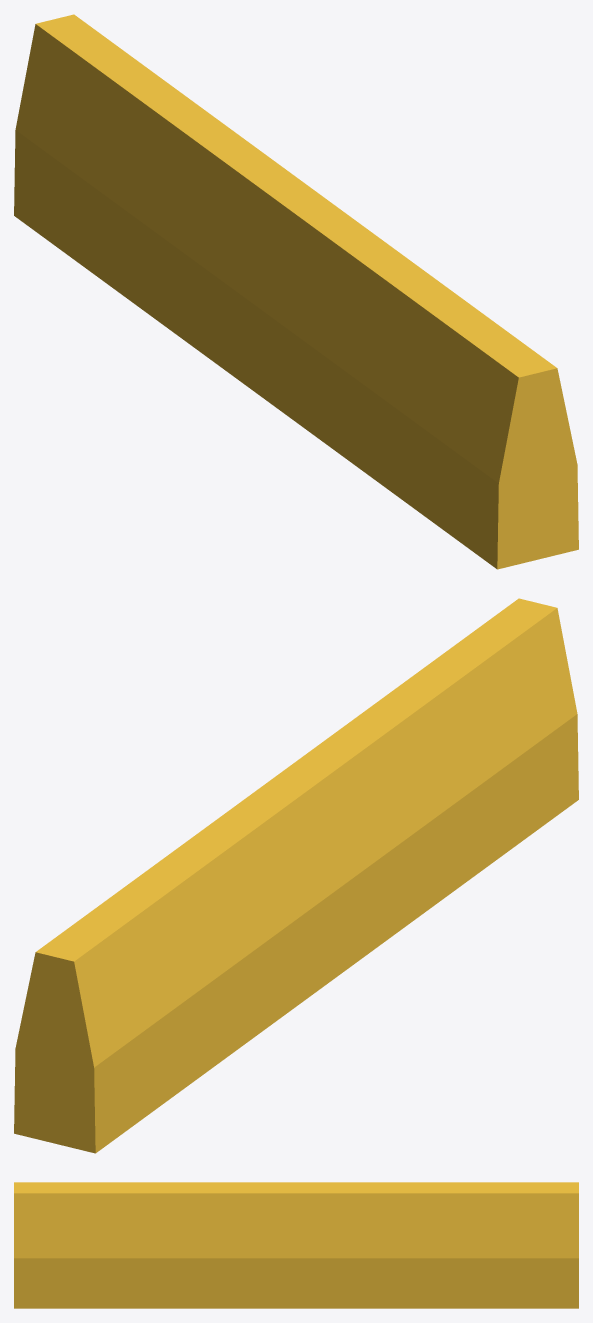
File: barrier.glb
The picture shows the model from 3 angles, top to bottom: view 1: azimuth 30°, elevation 25°; view 2: azimuth 150°, elevation 25°; view 3: azimuth 270°, elevation 25°; orthographic projection. The views are drawn at different scales.
Parts seen in each view (by area): view 1: Cube.001; view 2: Cube.001; view 3: Cube.001.
Part boxes in pixels (x1,y1,x2,y2): Cube.001: (14,14,578,569); Cube.001: (14,598,578,1153); Cube.001: (14,1182,578,1308).
Bounding box in the file's own units: 0.5874 × 1.28 × 6.02.
